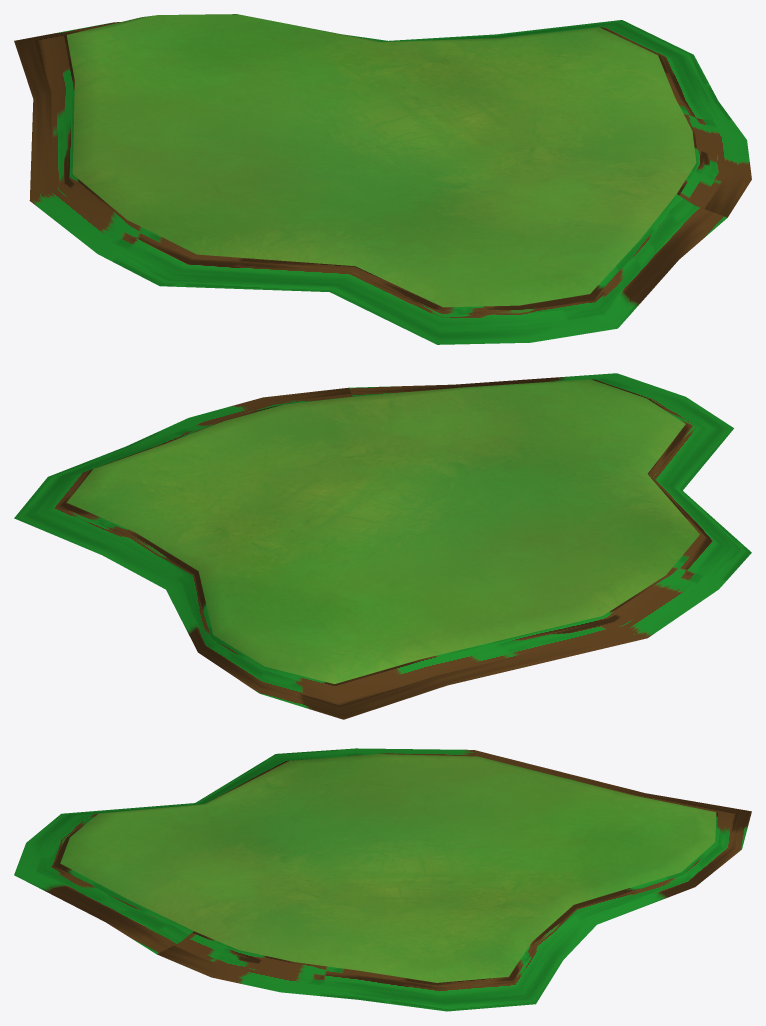
The model's file is grass mound 3.fbx.
The picture shows the model from 3 angles, top to bottom: view 1: azimuth 30°, elevation 25°; view 2: azimuth 150°, elevation 25°; view 3: azimuth 270°, elevation 25°; orthographic projection. The views are drawn at different scales.
Parts seen in each view (by area): view 1: pCylinder6; view 2: pCylinder6; view 3: pCylinder6.
Boxes of the visible parts, x1,y1,x2,y2 form: pCylinder6: (14,14,751,344); pCylinder6: (14,373,751,719); pCylinder6: (14,748,751,1011).
Bounding box in the file's own units: 3.09 × 0.0986 × 3.67.
2 materials, 2 textured.
